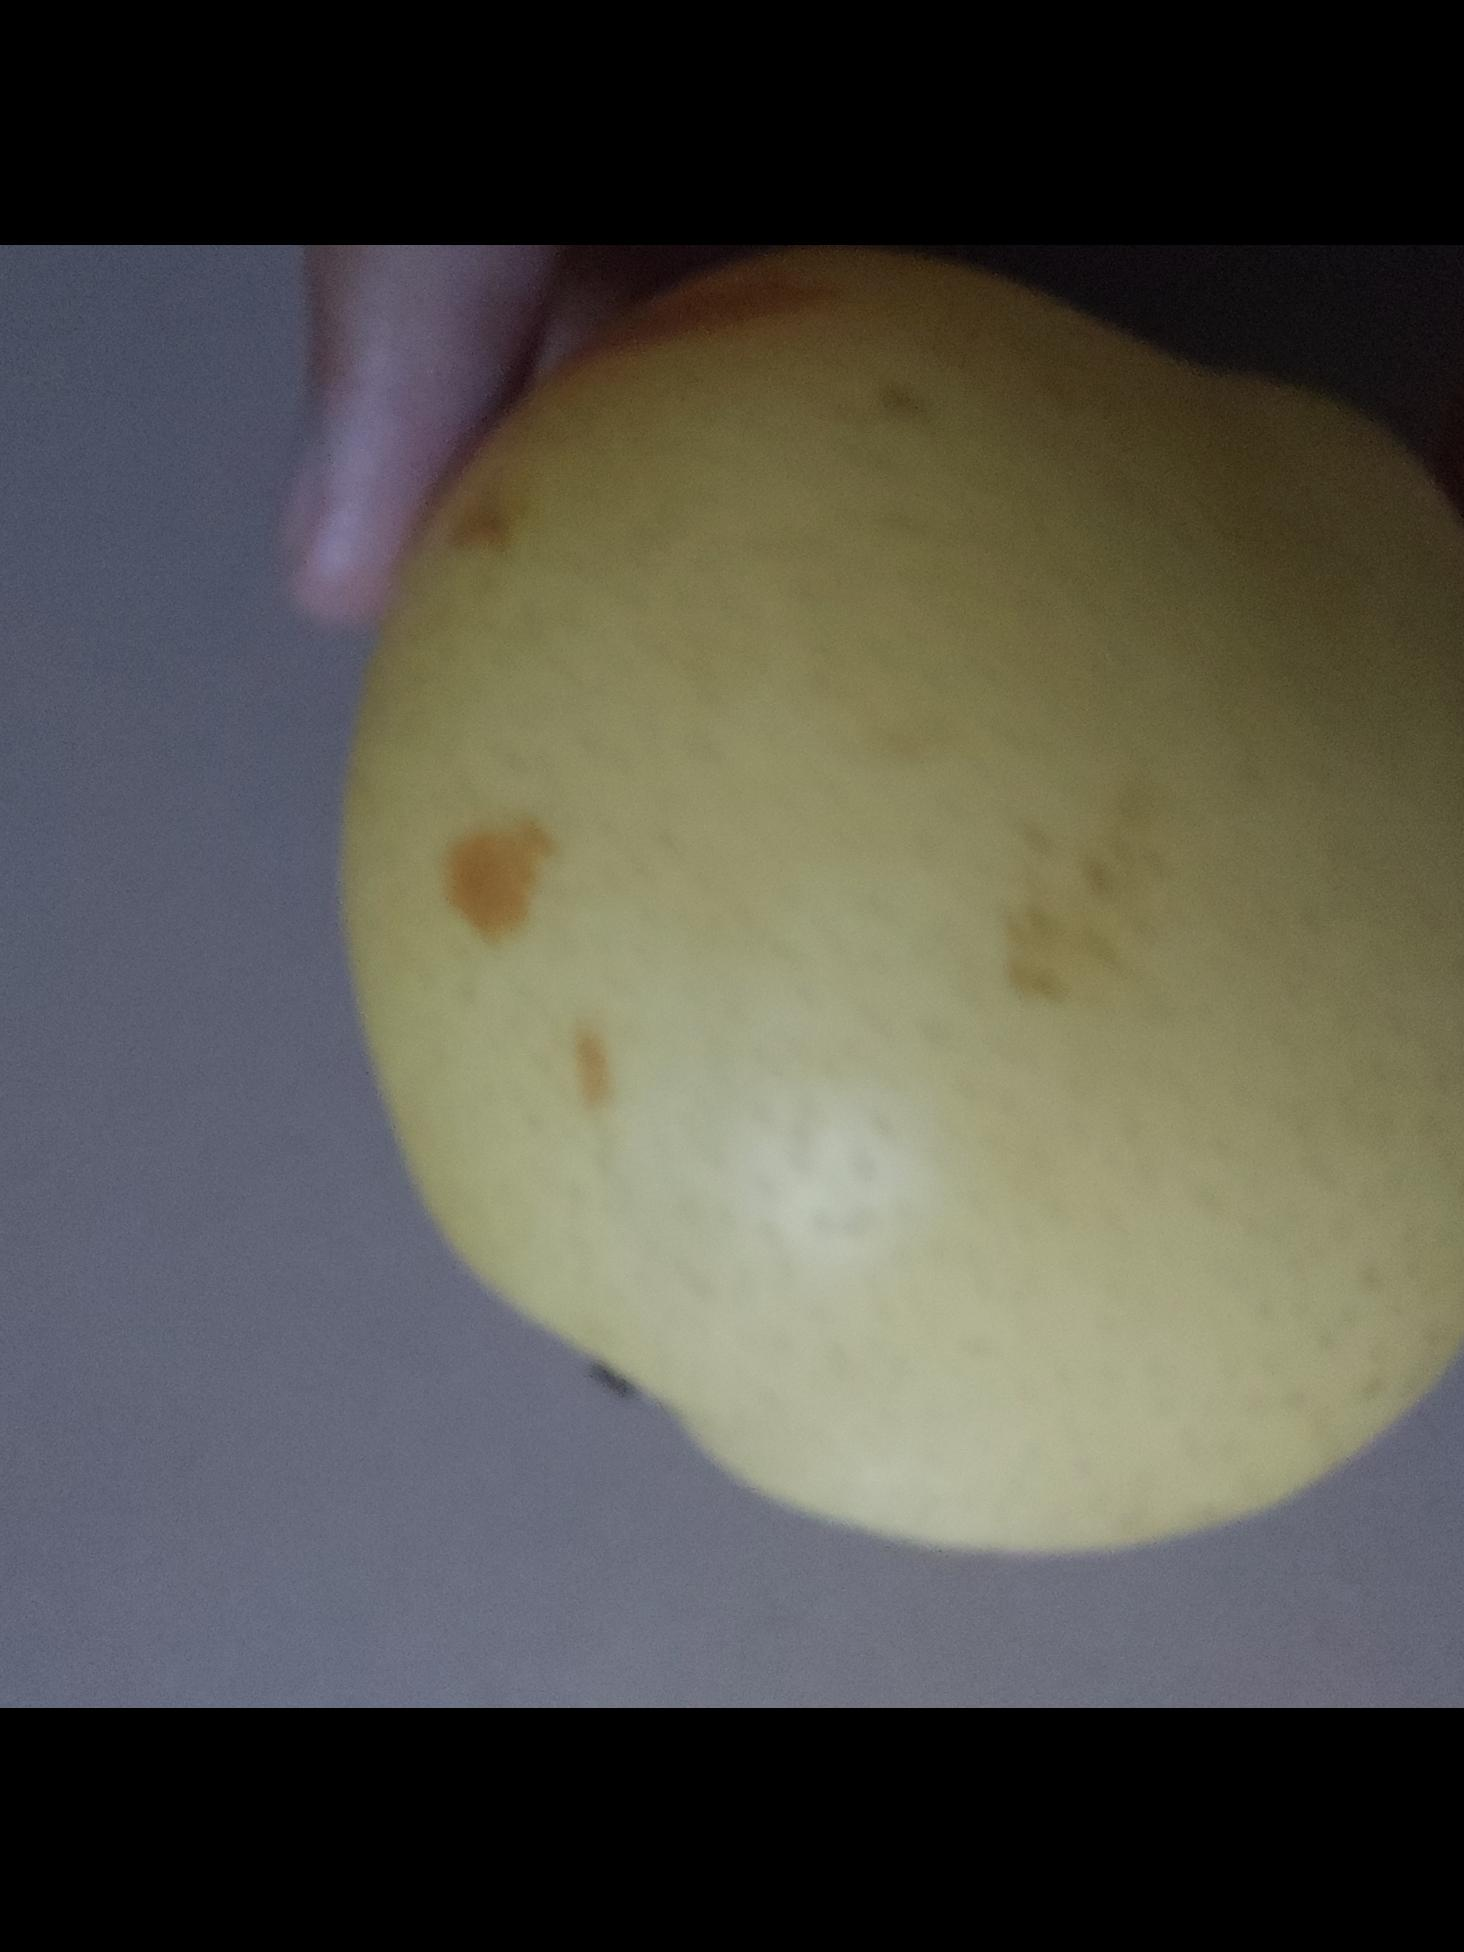Good Pear: (335, 244, 1464, 1562)
